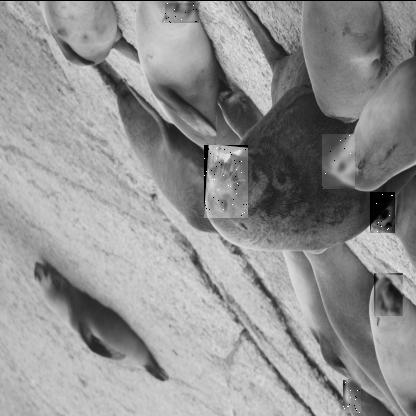face: (204, 143, 249, 217), (322, 132, 356, 188), (374, 271, 404, 315), (370, 190, 396, 232), (165, 1, 200, 22), (343, 378, 362, 412)
